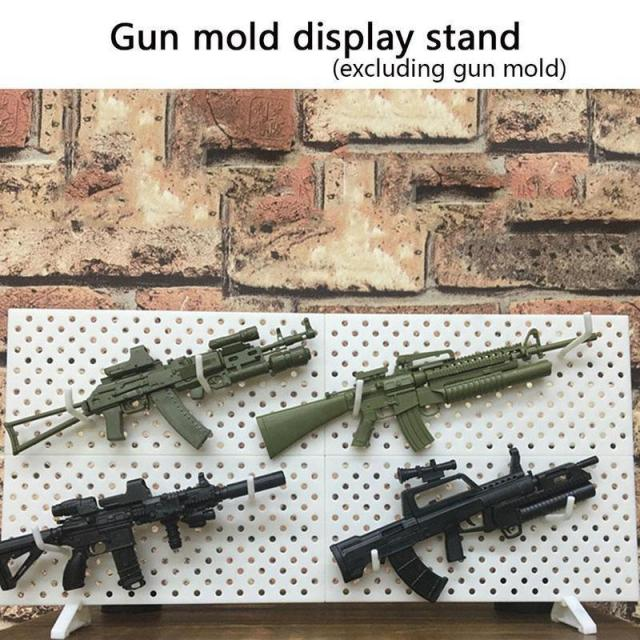Rifle: (255, 334, 602, 459), (2, 327, 317, 456), (329, 452, 598, 602), (0, 473, 286, 591)
